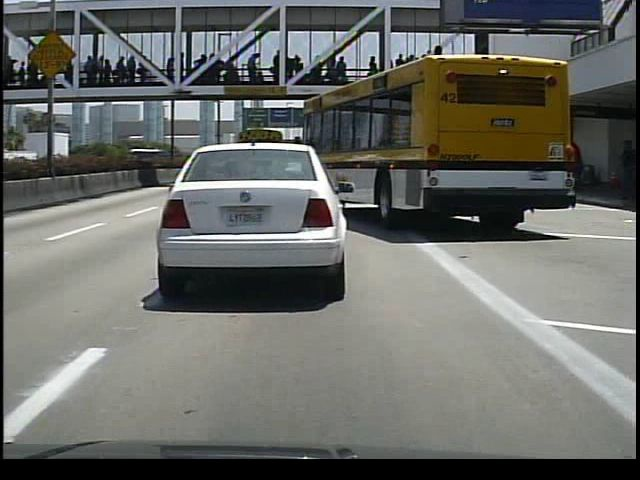person: (616, 139, 639, 206)
